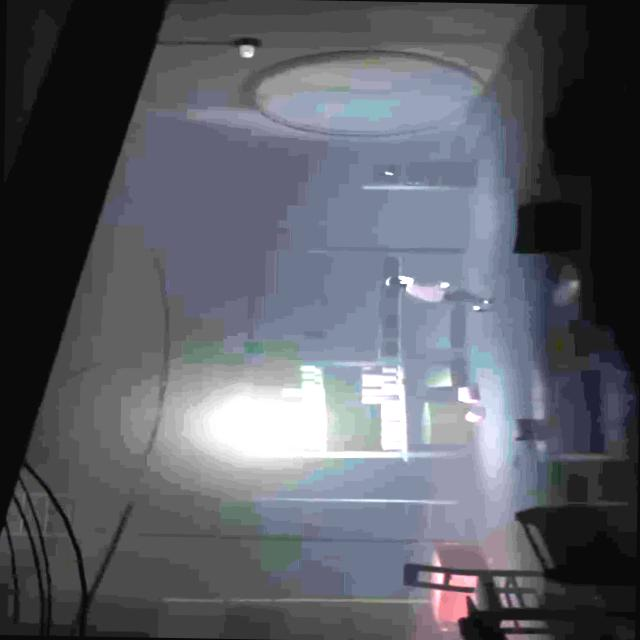boy: (385, 275, 491, 311)
